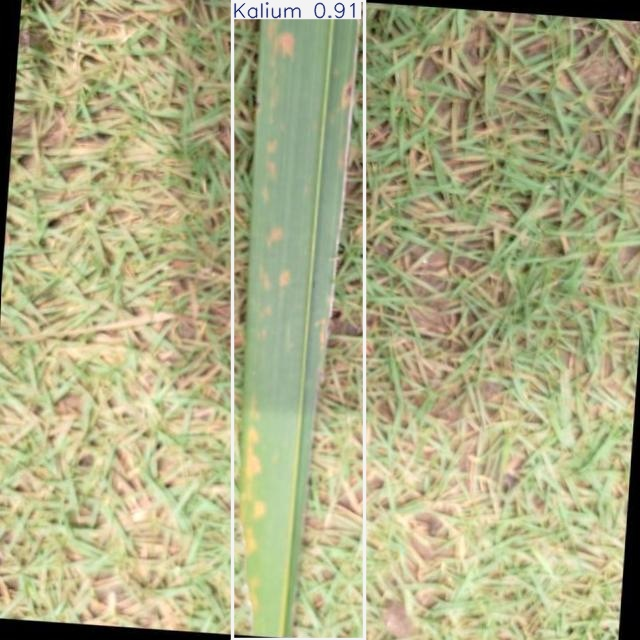Kalium: (232, 0, 365, 640)
